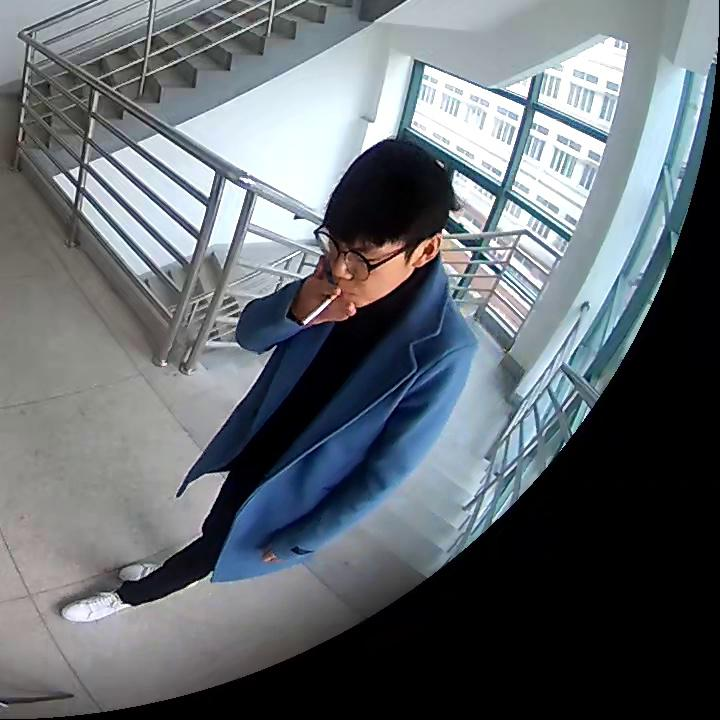mouthsmoke: (303, 138, 453, 325)
